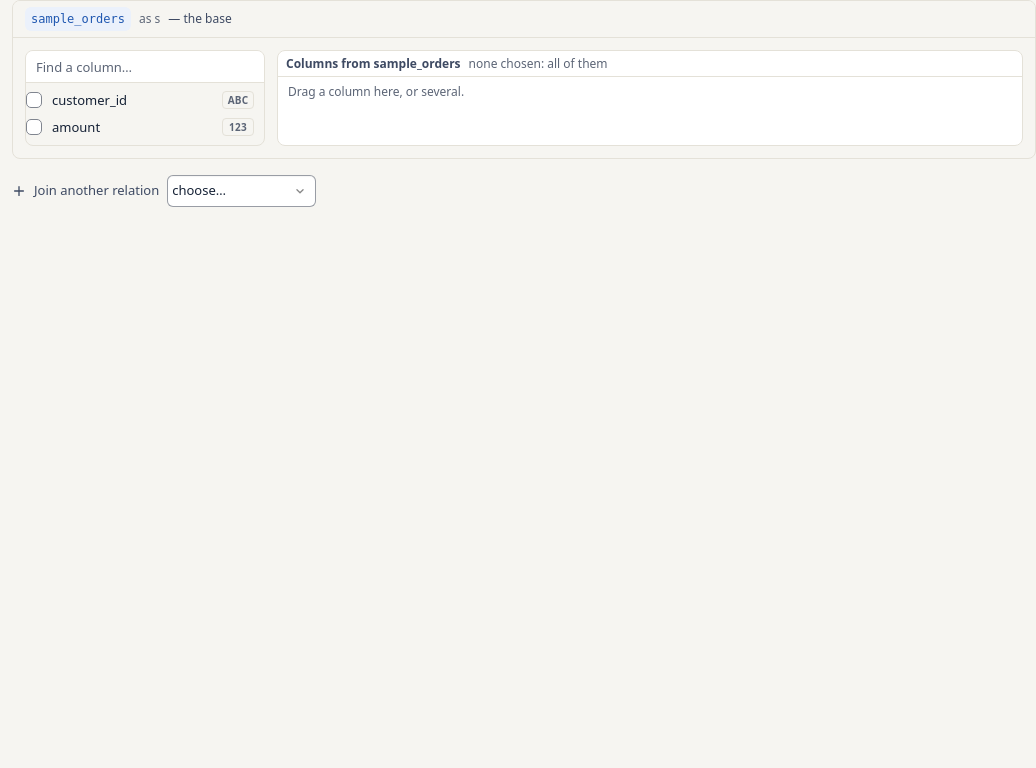
JoinTab › measures the keys once they are complete, in the backend's spec shape
Select "sample_customers" in the dropdown labelled "Join another relation" at (242, 191), box top-left (167, 175), bottom-right (316, 207)
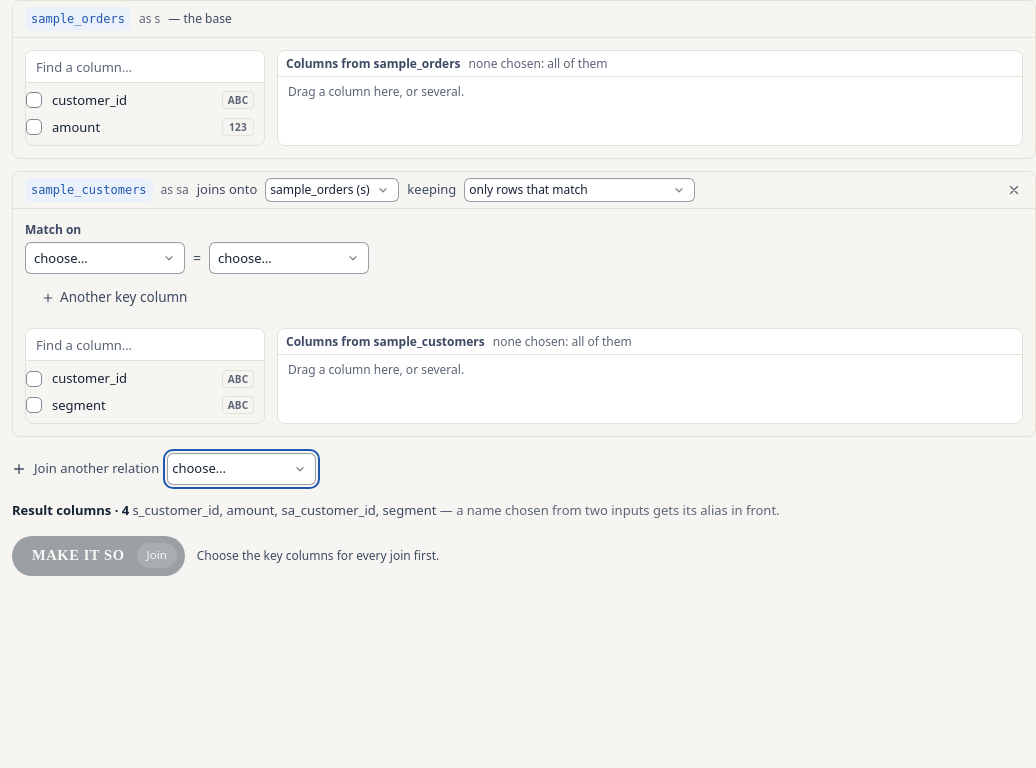
Select "customer_id" in the dropdown named "Key 1: column of sample_orders" at (105, 258), box top-left (25, 242), bottom-right (185, 274)
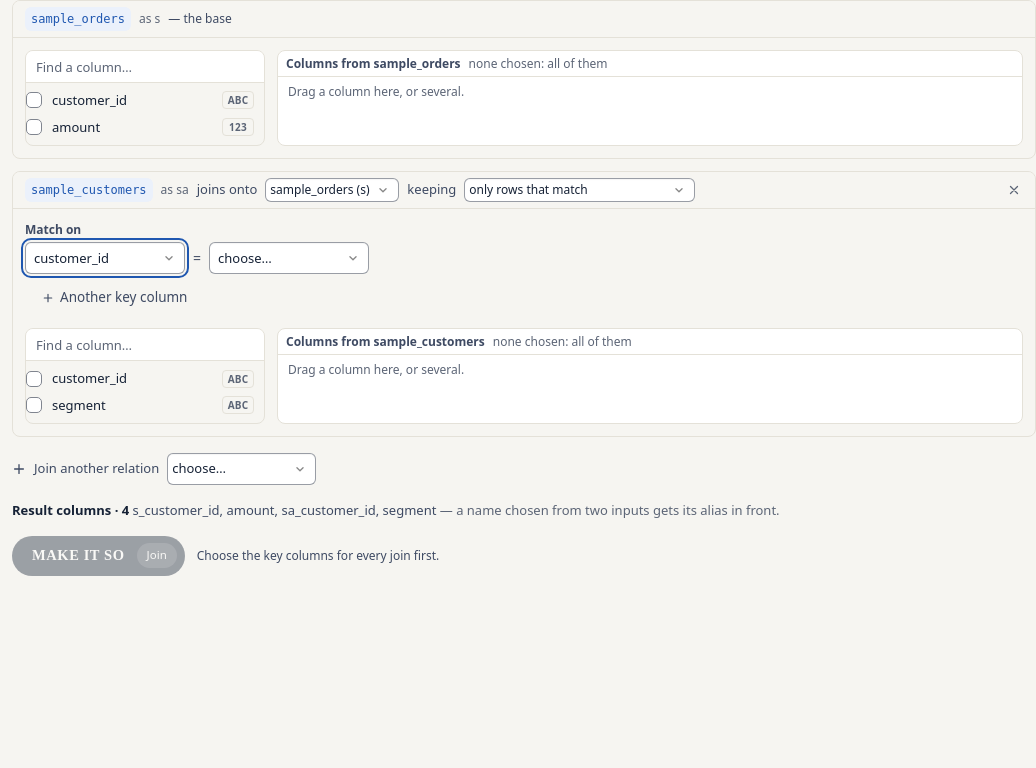
Select "customer_id" in the dropdown named "Key 1: column of sample_customers" at (289, 258), box top-left (209, 242), bottom-right (369, 274)
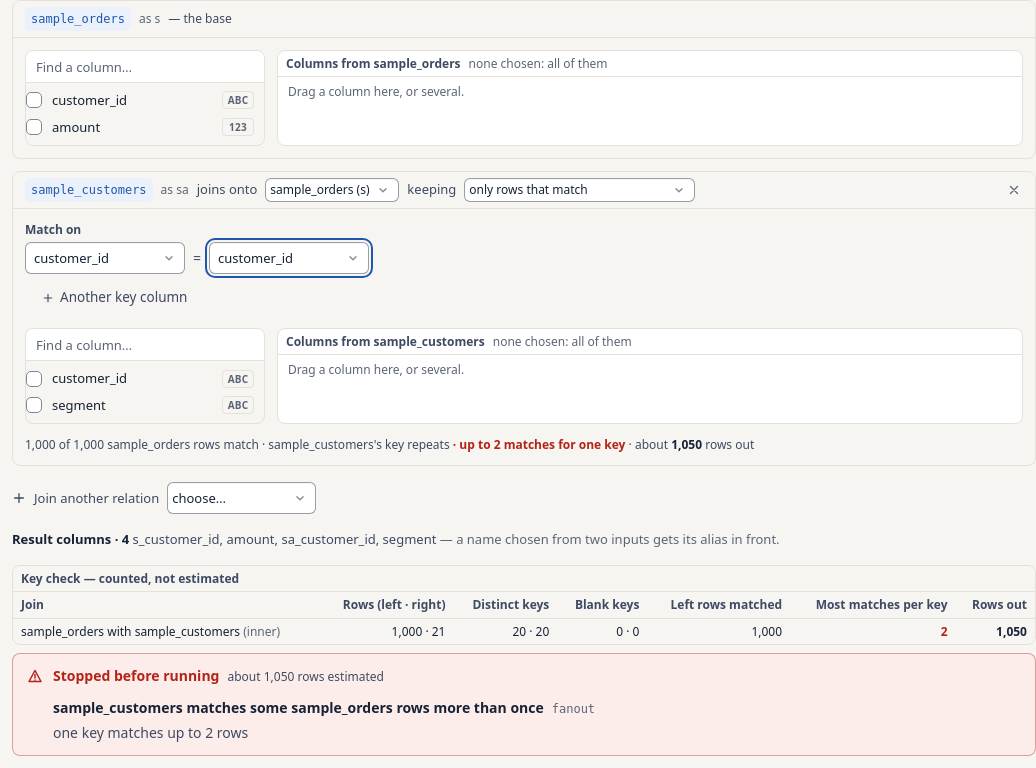
Check: the text "1,050" is shown, box top-left (956, 618), bottom-right (1035, 644)
Check: the text "· up to 2 matches for one key" is shown, box top-left (450, 436), bottom-right (626, 453)
